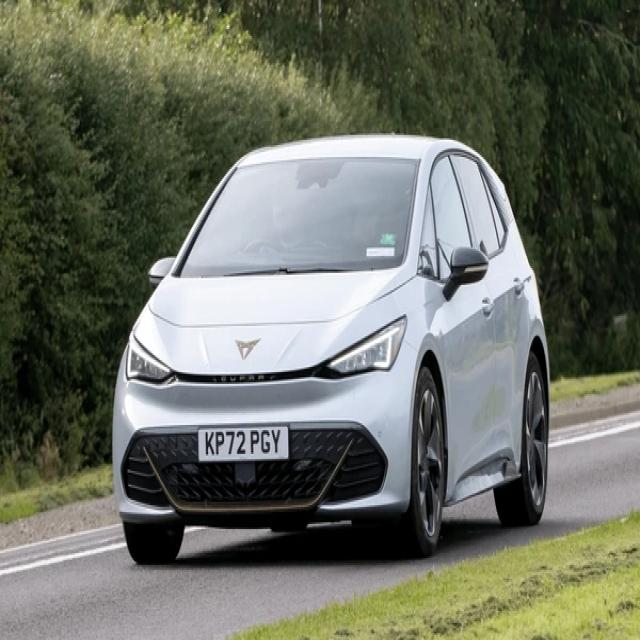cupra: (236, 334, 261, 362)
